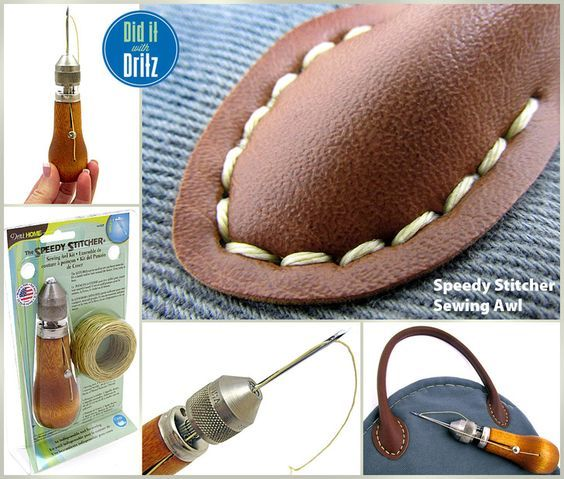cuero: (170, 3, 564, 301)
